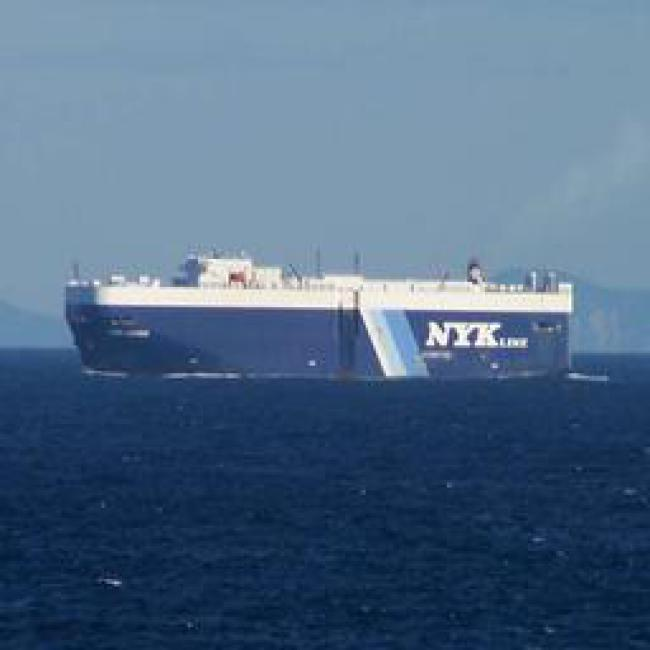Ship: (55, 243, 593, 387)
